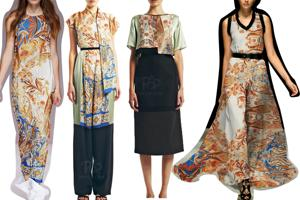C_W_pants: (72, 121, 114, 197)
C_blouse: (125, 11, 192, 57)
C_dress: (178, 10, 300, 188), (4, 7, 60, 184), (66, 4, 121, 131)
C_sandals: (71, 187, 110, 200), (234, 182, 257, 199)
S_skirt: (128, 48, 187, 157)
